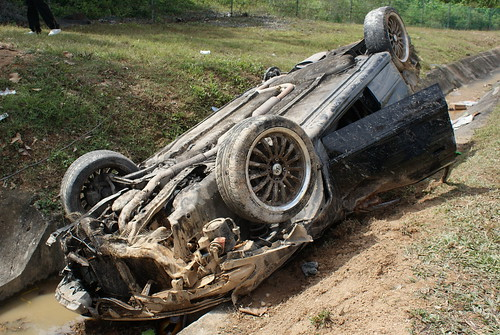car: (56, 8, 433, 318)
grass: (1, 20, 322, 163)
